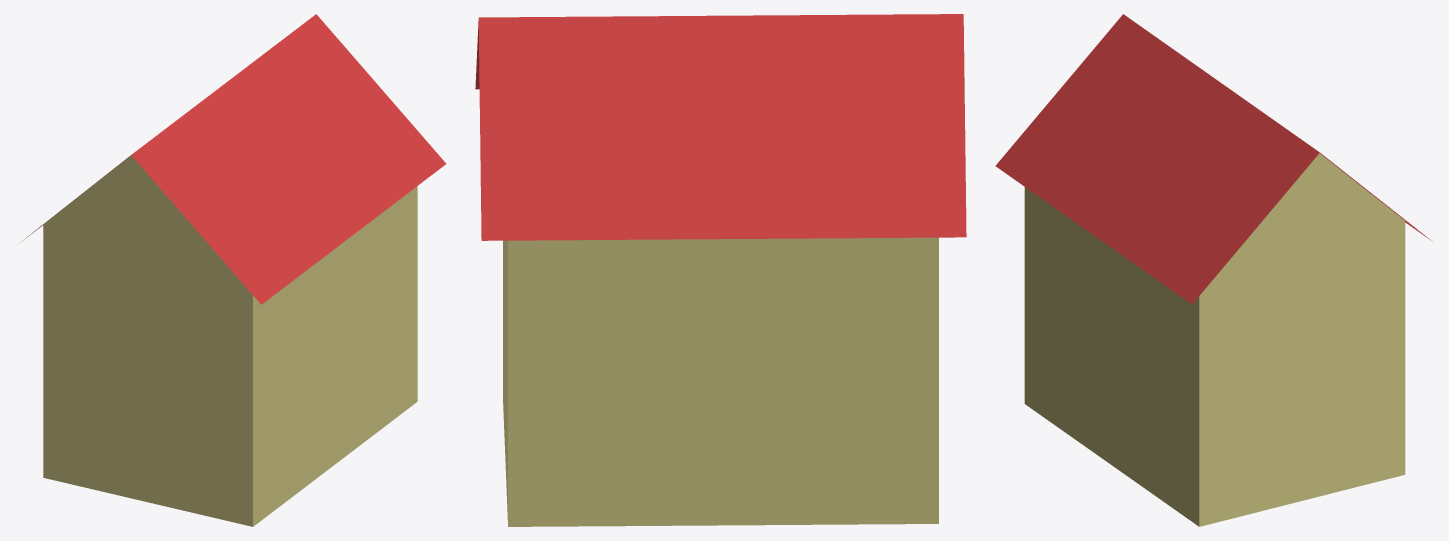
3 renders of one model, left to right at view 1: azimuth 30°, elevation 25°; view 2: azimuth 150°, elevation 25°; view 3: azimuth 270°, elevation 25°, orthographic. The views are drawn at different scales.
Size of the model in its own units: 16.67 by 15.47 by 13.77.
